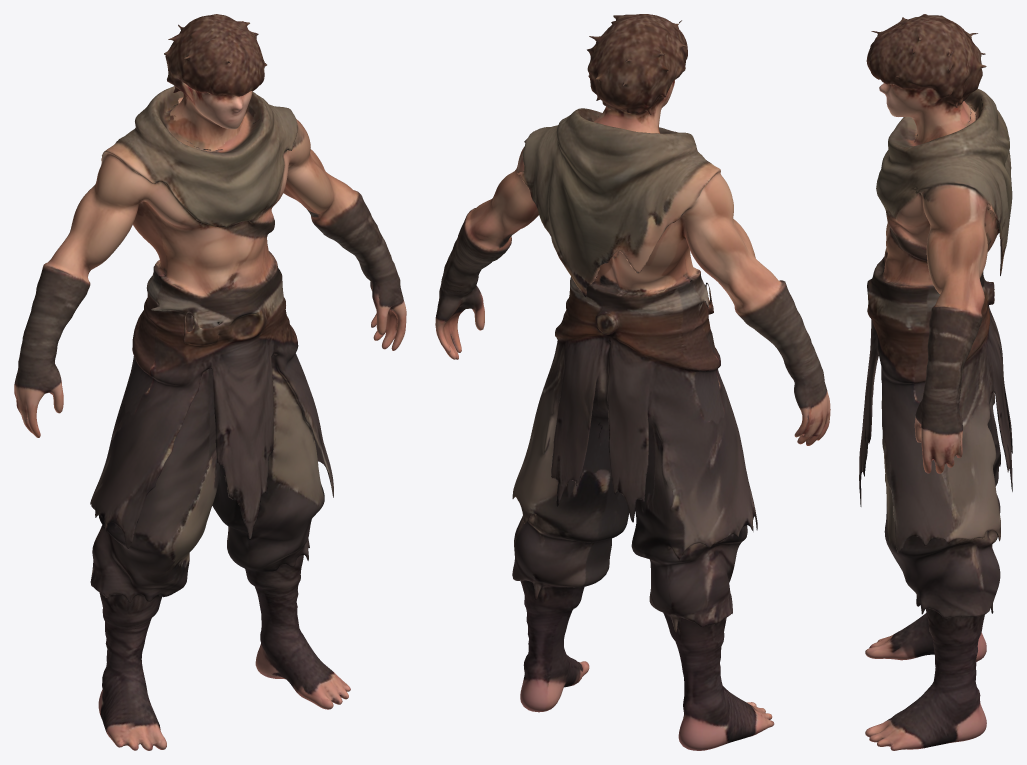
The model's file is heroe_hq.glb.
3 renders of one model, left to right at view 1: azimuth 30°, elevation 25°; view 2: azimuth 150°, elevation 25°; view 3: azimuth 270°, elevation 25°, orthographic. The views are drawn at different scales.
Parts seen in each view (by area): view 1: model; view 2: model; view 3: model.
Boxes of the visible parts, box(x1,y1,x2,y2) form: model: box(14, 14, 406, 750); model: box(435, 14, 830, 750); model: box(859, 14, 1012, 750).
Bounding box in the file's own units: 1.1 × 1.9 × 0.3891.
Materials: 1 (1 with a texture image).
